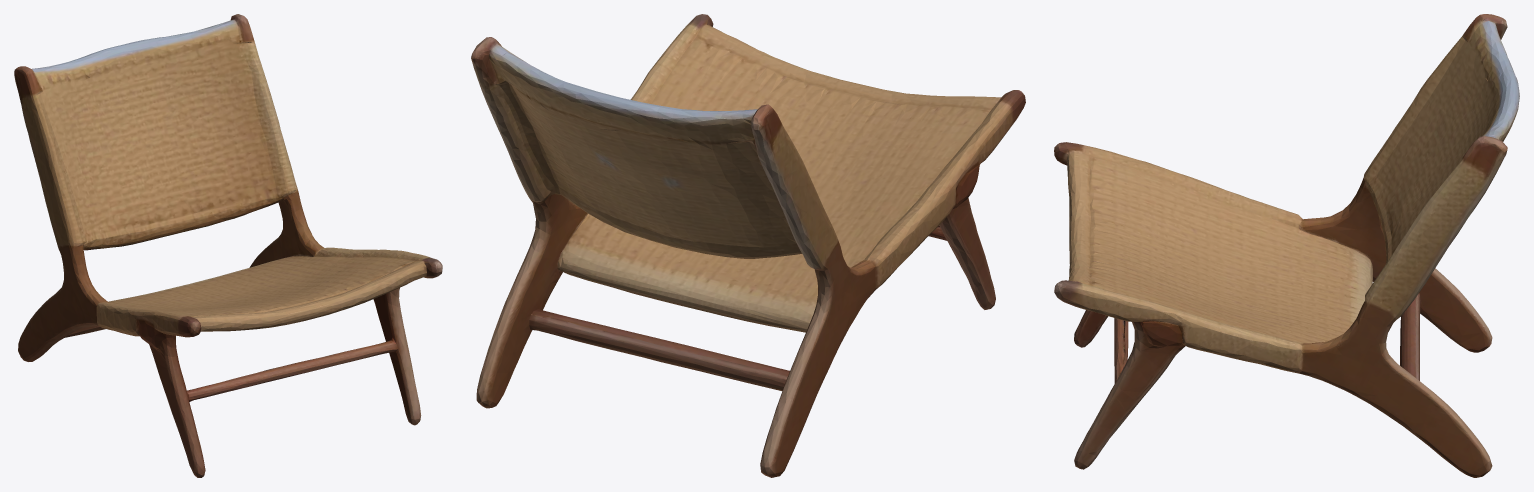
Rendered from ast_d723e8bfe067.glb.
3 renders of one model, left to right at view 1: azimuth 30°, elevation 25°; view 2: azimuth 150°, elevation 25°; view 3: azimuth 270°, elevation 25°, orthographic. The views are drawn at different scales.
Parts seen in each view (by area): view 1: geometry_0; view 2: geometry_0; view 3: geometry_0.
Boxes of the visible parts, <box> form: geometry_0: <box>14,14,442,477</box>; geometry_0: <box>471,14,1025,477</box>; geometry_0: <box>1054,14,1519,477</box>.
Bounding box in the file's own units: 0.4746 × 0.5142 × 0.6395.
Materials: 1 (1 with a texture image).
